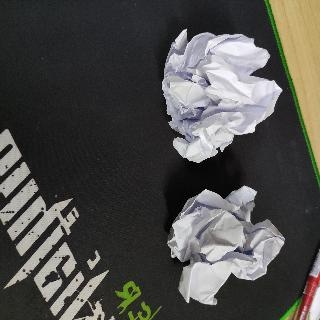8/可回收垃圾/纸: (160, 28, 284, 164), (166, 185, 286, 305)
